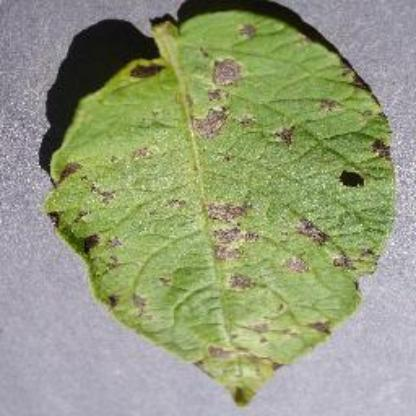Early-Blight: (35, 0, 415, 406)
